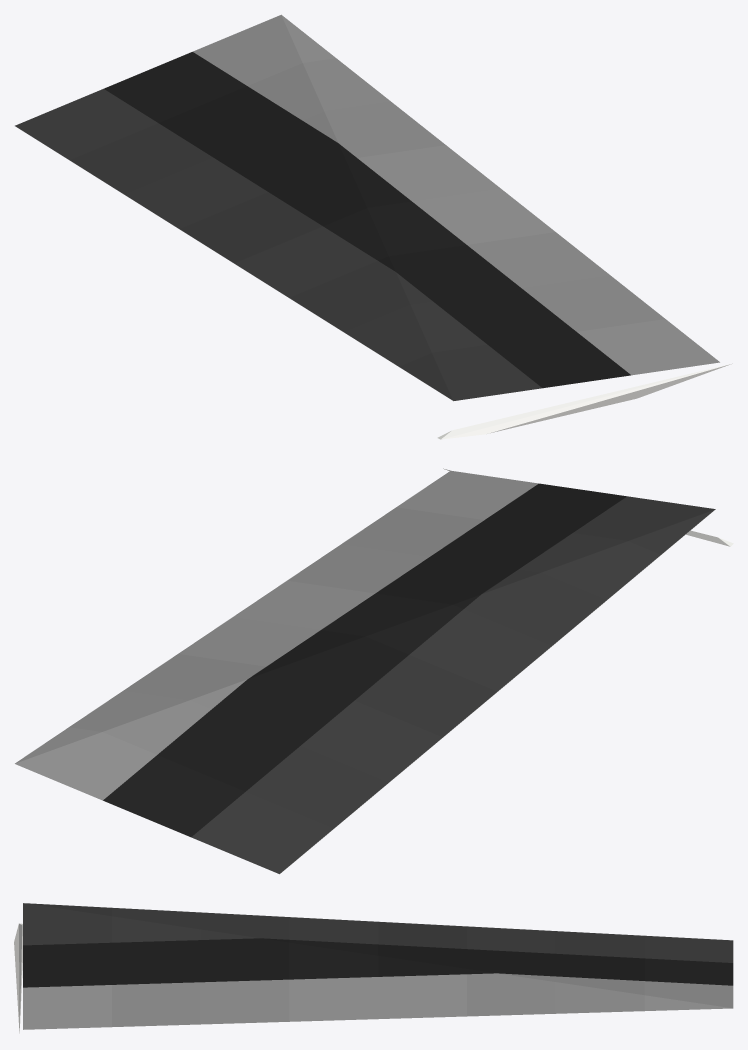
Rendered from srp052-geode.glb.
The picture shows the model from 3 angles, top to bottom: view 1: azimuth 30°, elevation 25°; view 2: azimuth 150°, elevation 25°; view 3: azimuth 270°, elevation 25°; orthographic projection. The views are drawn at different scales.
Visible parts, largest first — view 1: Node; view 2: Node; view 3: Node.
Boxes of the visible parts, x1=… form: Node: x1=15, y1=14, x2=732, y2=439; Node: x1=15, y1=468, x2=733, y2=874; Node: x1=14, y1=903, x2=733, y2=1033.
Size of the model in its own units: 1.63 by 0.244 by 4.27.
Materials: 1 (1 with a texture image).
